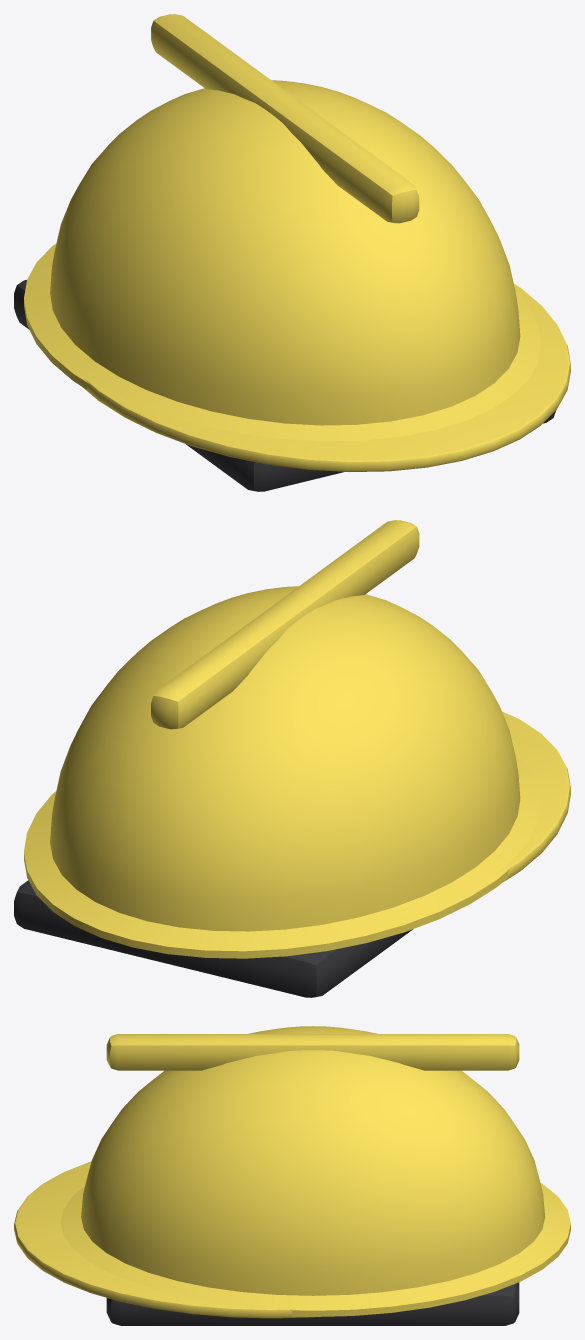
Rendered from SER-EPI-001.glb.
3 views of the same model, one above another, from view 1: azimuth 30°, elevation 25°; view 2: azimuth 150°, elevation 25°; view 3: azimuth 270°, elevation 25° (orthographic). The views are drawn at different scales.
Parts seen in each view (by area): view 1: SER-EPI-001_casco, SER-EPI-001_aba, SER-EPI-001_friso, SER-EPI-001_carneira; view 2: SER-EPI-001_casco, SER-EPI-001_friso, SER-EPI-001_carneira, SER-EPI-001_aba; view 3: SER-EPI-001_casco, SER-EPI-001_friso, SER-EPI-001_aba, SER-EPI-001_carneira.
Part boxes in pixels (box(x1,y1,x2,y2)): SER-EPI-001_casco: box(24, 80, 540, 441); SER-EPI-001_aba: box(82, 283, 570, 471); SER-EPI-001_friso: box(151, 14, 419, 223); SER-EPI-001_carneira: box(14, 280, 555, 491); SER-EPI-001_casco: box(24, 586, 540, 958); SER-EPI-001_friso: box(151, 520, 419, 729); SER-EPI-001_carneira: box(14, 880, 413, 997); SER-EPI-001_aba: box(498, 711, 570, 881); SER-EPI-001_casco: box(60, 1026, 570, 1316); SER-EPI-001_friso: box(106, 1034, 519, 1070); SER-EPI-001_aba: box(14, 1161, 314, 1318); SER-EPI-001_carneira: box(106, 1282, 519, 1325).
Size of the model in its own units: 0.3 by 0.185 by 0.405.
